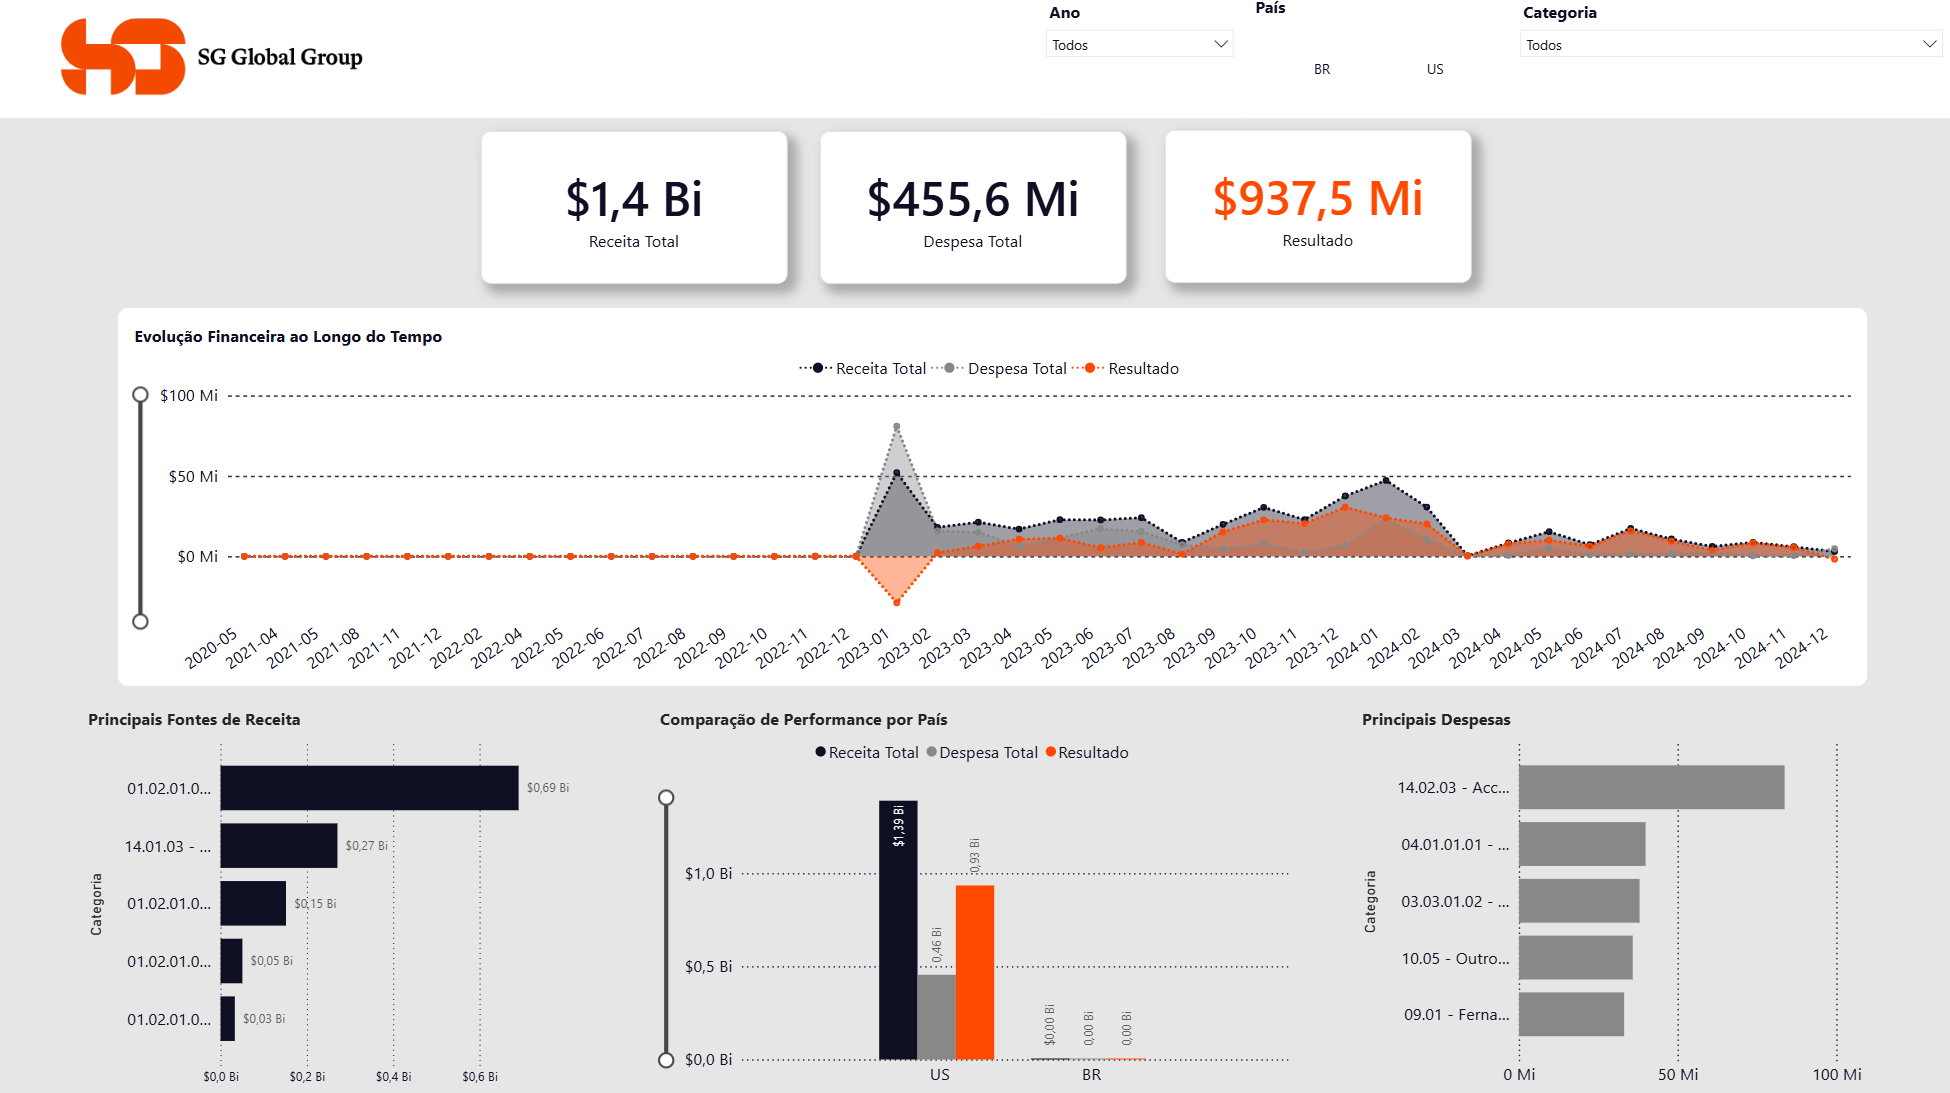

What the dashboard file says about the page in this screenshot:
{"tool":"powerbi","page":{"name":"Dash","canvas":[1920,1080],"ordinal":0},"visuals":[{"type":"shape","box":[0,0,1920,119.6],"z":0},{"type":"lineChart","title":"Evolução Financeira ao Longo do Tempo","fields":{"Category":["Calendario.AnoMes"],"Y":["@DRE BR e US - DNC TRATADA.Receita Total","@DRE BR e US - DNC TRATADA.Despesa Total","@DRE BR e US - DNC TRATADA.Resultado"]},"box":[119,306,1717,370.9],"z":1000},{"type":"slicer","fields":{"Values":["Calendario.Ano"]},"box":[1019.8,0,204.3,119.6],"z":2000},{"type":"cardVisual","fields":{"Data":["@DRE BR e US - DNC TRATADA.Receita Total"]},"box":[474.7,132.5,300.5,150.3],"z":2000,"group":"g1"},{"type":"slicer","fields":{"Values":["@DRE BR e US - DNC TRATADA.País"]},"box":[1227,0,258.2,119.6],"z":3000},{"type":"slicer","fields":{"Values":["@DRE BR e US - DNC TRATADA.Categoria"]},"box":[1485.2,0,434.8,119.6],"z":4000},{"type":"cardVisual","fields":{"Data":["@DRE BR e US - DNC TRATADA.Despesa Total"]},"box":[807.6,132.8,300.5,150.3],"z":4000,"group":"g1"},{"type":"image","box":[0,19,449.4,81.7],"z":5000},{"type":"cardVisual","fields":{"Data":["@DRE BR e US - DNC TRATADA.Resultado"]},"box":[1146.1,131.3,300.5,150.3],"z":6000,"group":"g1"},{"type":"group","id":"g1","title":"Grupo 2","box":[474.7,131.3,970.7,152.6],"z":7000},{"type":"clusteredBarChart","title":"Principais Fontes de Receita","fields":{"Category":["@DRE BR e US - DNC TRATADA.Categoria"],"Y":["@DRE BR e US - DNC TRATADA.Receita Total"]},"box":[83.9,699,500.6,380],"z":8000},{"type":"clusteredBarChart","title":"Principais Despesas","fields":{"Category":["@DRE BR e US - DNC TRATADA.Categoria"],"Y":["@DRE BR e US - DNC TRATADA.Despesa Total"]},"box":[1335.5,699,500.6,380],"z":9000},{"type":"clusteredColumnChart","title":"Comparação de Performance por País","fields":{"Category":["@DRE BR e US - DNC TRATADA.País"],"Y":["@DRE BR e US - DNC TRATADA.Receita Total","@DRE BR e US - DNC TRATADA.Despesa Total","@DRE BR e US - DNC TRATADA.Resultado"]},"box":[646.4,699,627.3,380],"z":10000}]}

Visuals, with their boxes in screenshot pixels (x1, y1, x2, y2), scaled from the page's 1920x1080 canvas onto the 1950x1093 screenshot:
shape: BBox(0, 0, 1949, 121)
"Evolução Financeira ao Longo do Tempo" lineChart: BBox(121, 310, 1865, 685)
slicer - Calendario.Ano: BBox(1036, 0, 1243, 121)
cardVisual - @DRE BR e US - DNC TRATADA.Receita Total: BBox(482, 134, 787, 286)
slicer - @DRE BR e US - DNC TRATADA.País: BBox(1246, 0, 1508, 121)
slicer - @DRE BR e US - DNC TRATADA.Categoria: BBox(1508, 0, 1949, 121)
cardVisual - @DRE BR e US - DNC TRATADA.Despesa Total: BBox(820, 134, 1125, 287)
image: BBox(0, 19, 456, 102)
cardVisual - @DRE BR e US - DNC TRATADA.Resultado: BBox(1164, 133, 1469, 285)
"Grupo 2" group: BBox(482, 133, 1468, 287)
"Principais Fontes de Receita" clusteredBarChart: BBox(85, 707, 594, 1092)
"Principais Despesas" clusteredBarChart: BBox(1356, 707, 1865, 1092)
"Comparação de Performance por País" clusteredColumnChart: BBox(656, 707, 1294, 1092)
